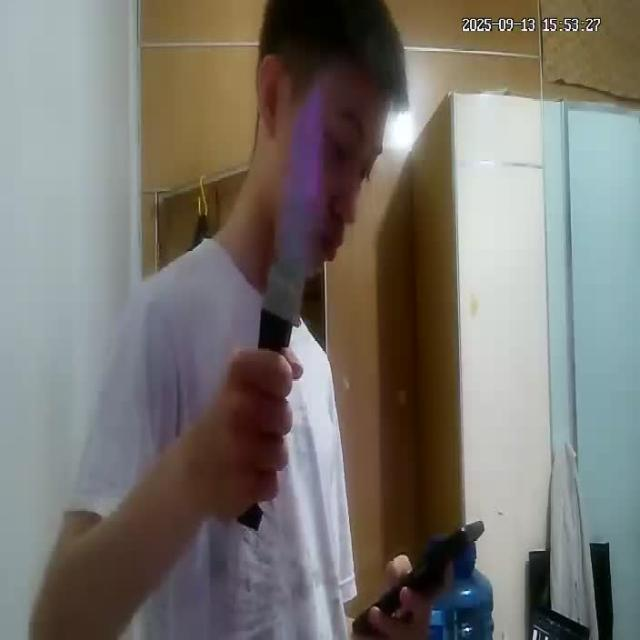senjata_tajam: (254, 78, 326, 354)
